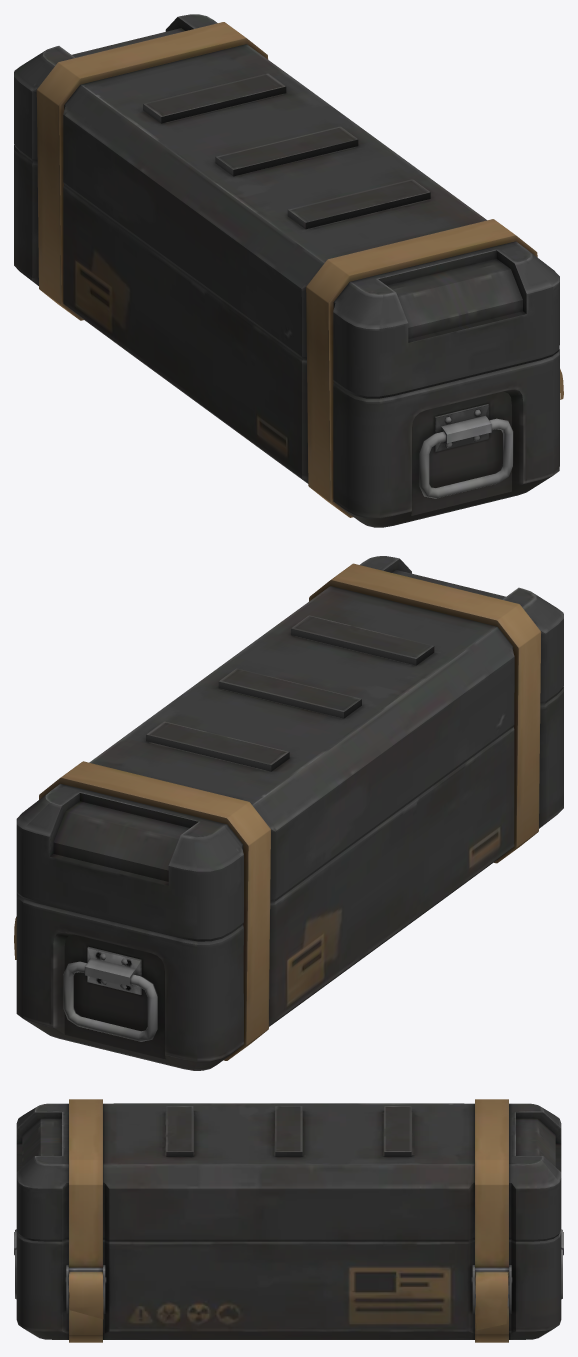
3 renders of one model, top to bottom at view 1: azimuth 30°, elevation 25°; view 2: azimuth 150°, elevation 25°; view 3: azimuth 270°, elevation 25°, orthographic. The views are drawn at different scales.
Visible parts, largest first — view 1: body0_model0_lod0_mesh0; view 2: body0_model0_lod0_mesh0; view 3: body0_model0_lod0_mesh0.
Part boxes in pixels (<box>): body0_model0_lod0_mesh0: <box>14,14,563,527</box>; body0_model0_lod0_mesh0: <box>14,556,563,1070</box>; body0_model0_lod0_mesh0: <box>14,1099,563,1342</box>.
Size of the model in its own units: 45.24 by 44.53 by 121.
1 material, 1 textured.
